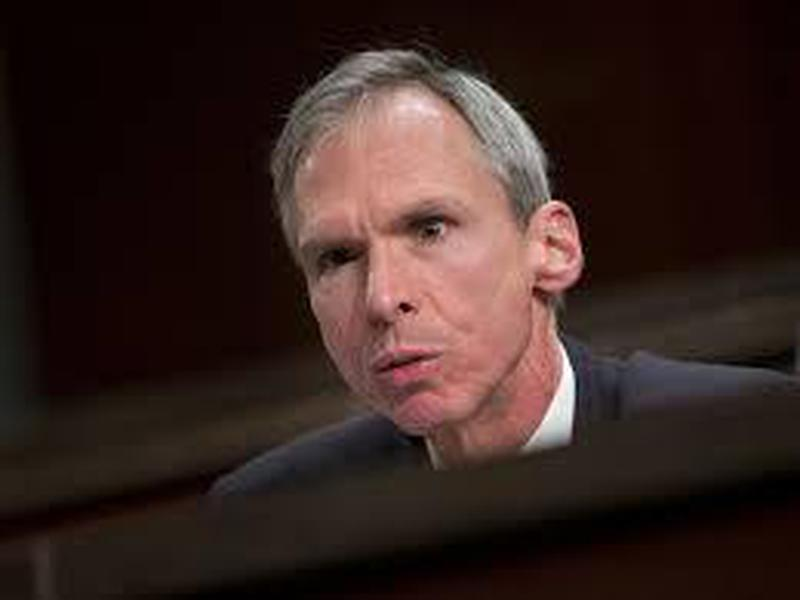without_mask: (276, 142, 519, 429)
